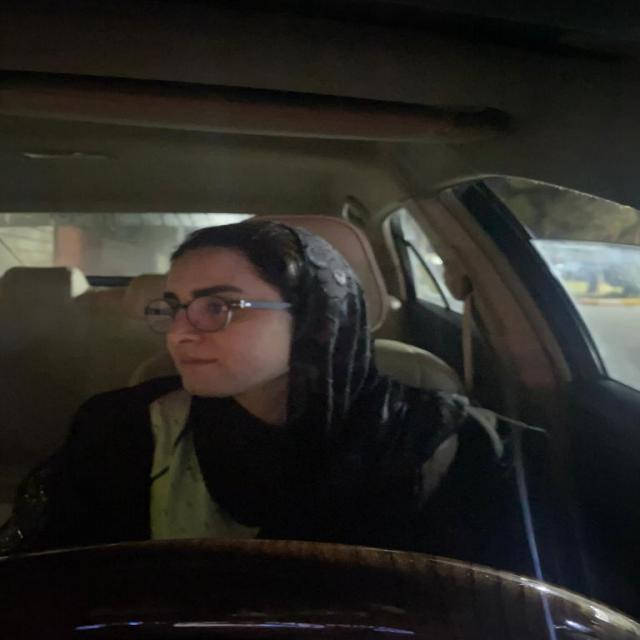LeftRight: (149, 219, 358, 441)
